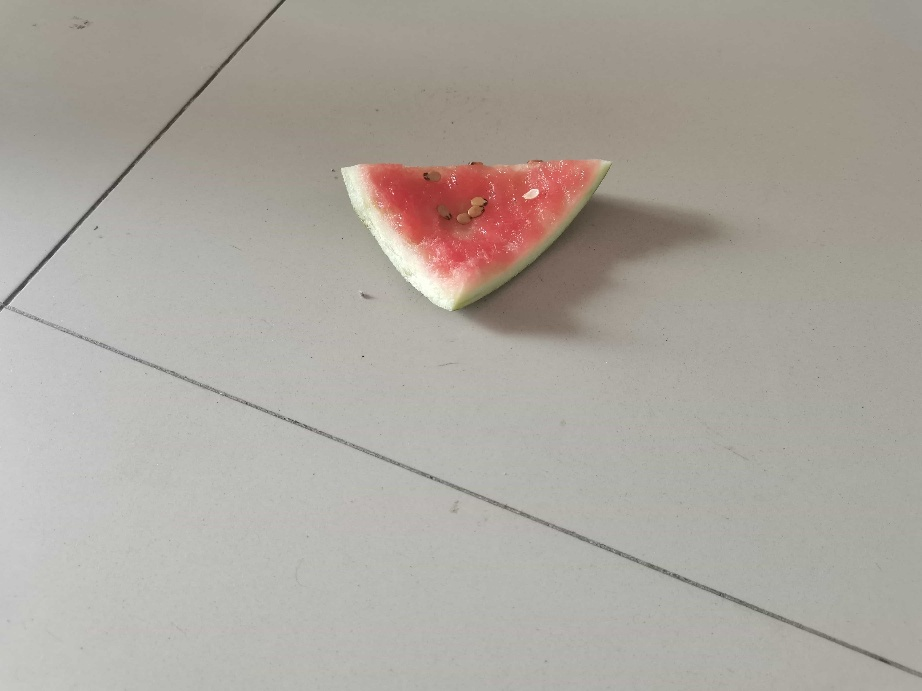pericarp: (330, 146, 623, 314)
